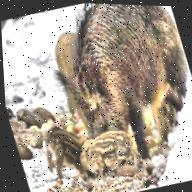boar: (35, 1, 192, 171)
